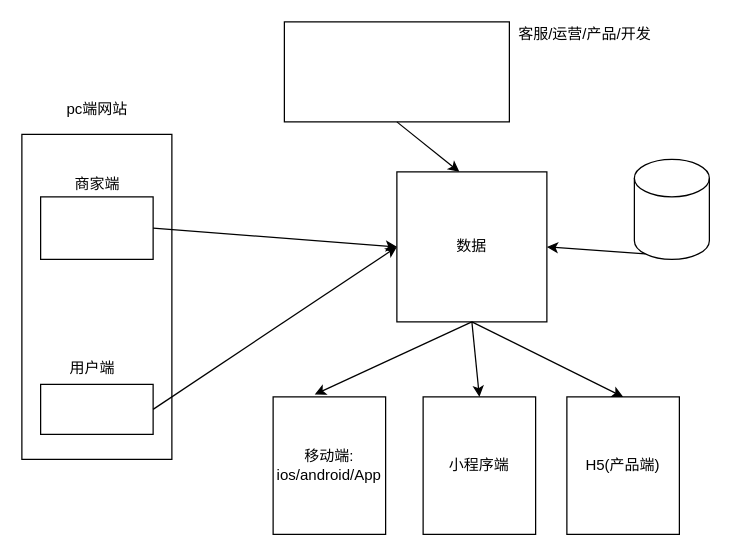
Some shapes in this 731 by 556 pixel diagram are drawn without their labels. Here are the shapes that lost their labels. From the top down, the centre of each, then its label:
At point (396, 71): "后台管理系统(工作人员对 数据的操作)".
At point (671, 208): "数据库".
